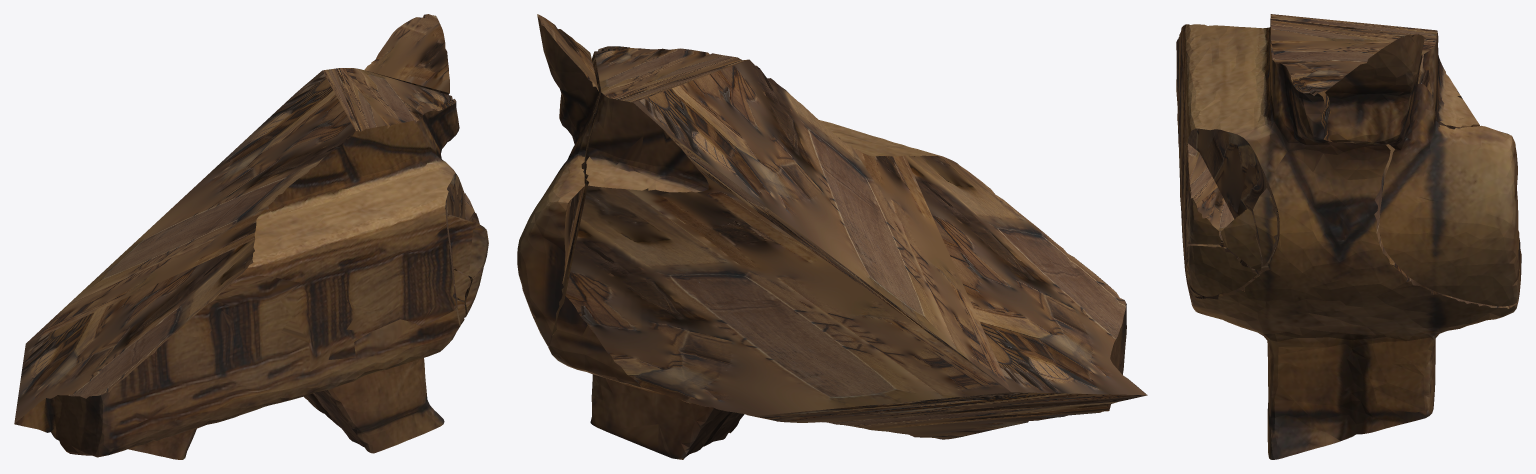
File: Torso.fbx
3 renders of one model, left to right at view 1: azimuth 30°, elevation 25°; view 2: azimuth 150°, elevation 25°; view 3: azimuth 270°, elevation 25°, orthographic. The views are drawn at different scales.
Parts seen in each view (by area): view 1: KLA-Or-10000_cell.004; view 2: KLA-Or-10000_cell.004; view 3: KLA-Or-10000_cell.004.
Part boxes in pixels (bbox=[...]): KLA-Or-10000_cell.004: bbox=[14, 14, 488, 459]; KLA-Or-10000_cell.004: bbox=[517, 14, 1147, 459]; KLA-Or-10000_cell.004: bbox=[1176, 14, 1521, 459].
Size of the model in its own units: 79.44 by 59.37 by 40.12.
